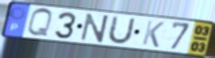3: (54, 11, 78, 40)
7: (170, 21, 192, 51)
K: (140, 19, 166, 49)
N: (79, 13, 111, 44)
Q: (26, 7, 54, 38)
U: (106, 15, 138, 46)
